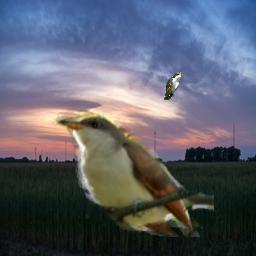Cuckoo: (51, 103, 214, 237), (164, 72, 184, 100)
